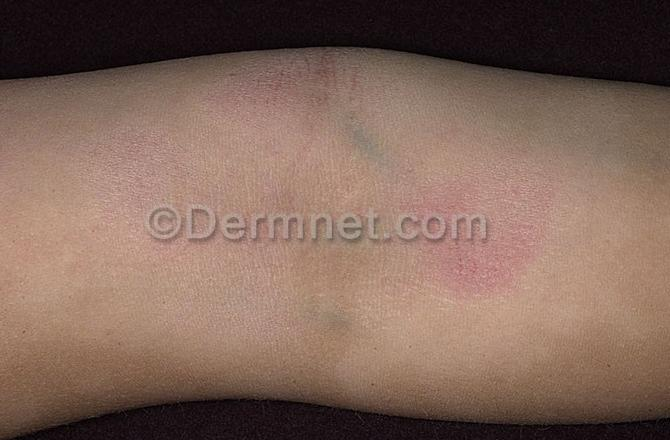eritema 1: (243, 34, 552, 297)
xerosis 1: (243, 31, 549, 297)
